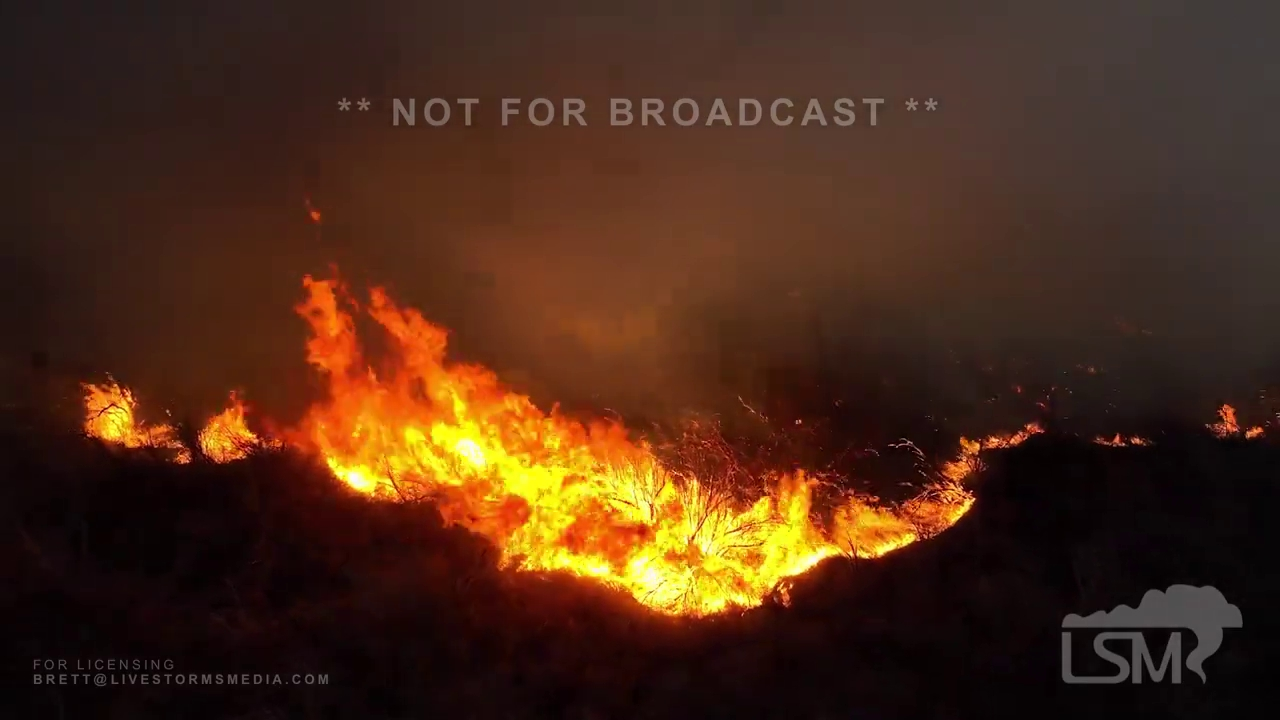forest_fire: (82, 270, 1040, 615), (1209, 406, 1260, 436), (1095, 436, 1145, 444)
